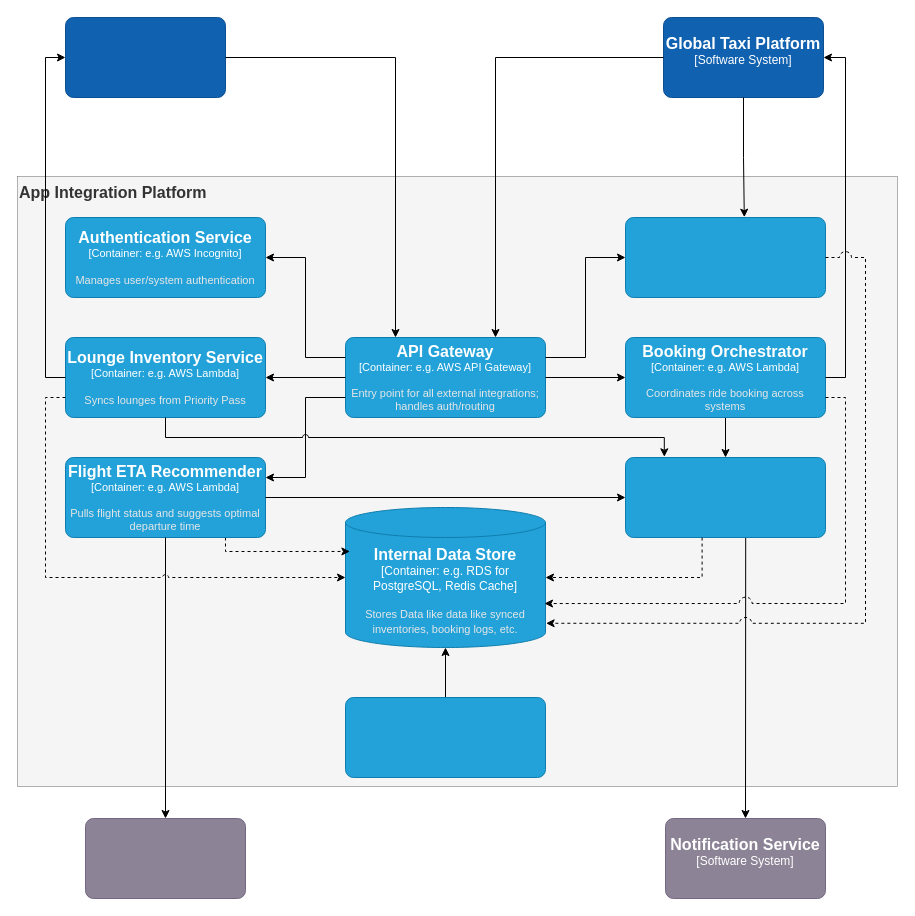
This 915x916 diagram has some shape labels left out. The centre of each missing label's shape, as x and y in pixels:
Admin & Dashboard [Container: e.g. React] Administrative Functions/Dashboards: the point at 445,737
Flight Info API [Software System]: the point at 165,858
Notification Dispatcher [Container: e.g. AWS SNS] Sends notifications: the point at 725,497
Priority Pass Platform [Software System]: the point at 145,57
Taxi Inventory Service [Container: e.g. AWS Lambda] Syncs available ride details: the point at 725,257
